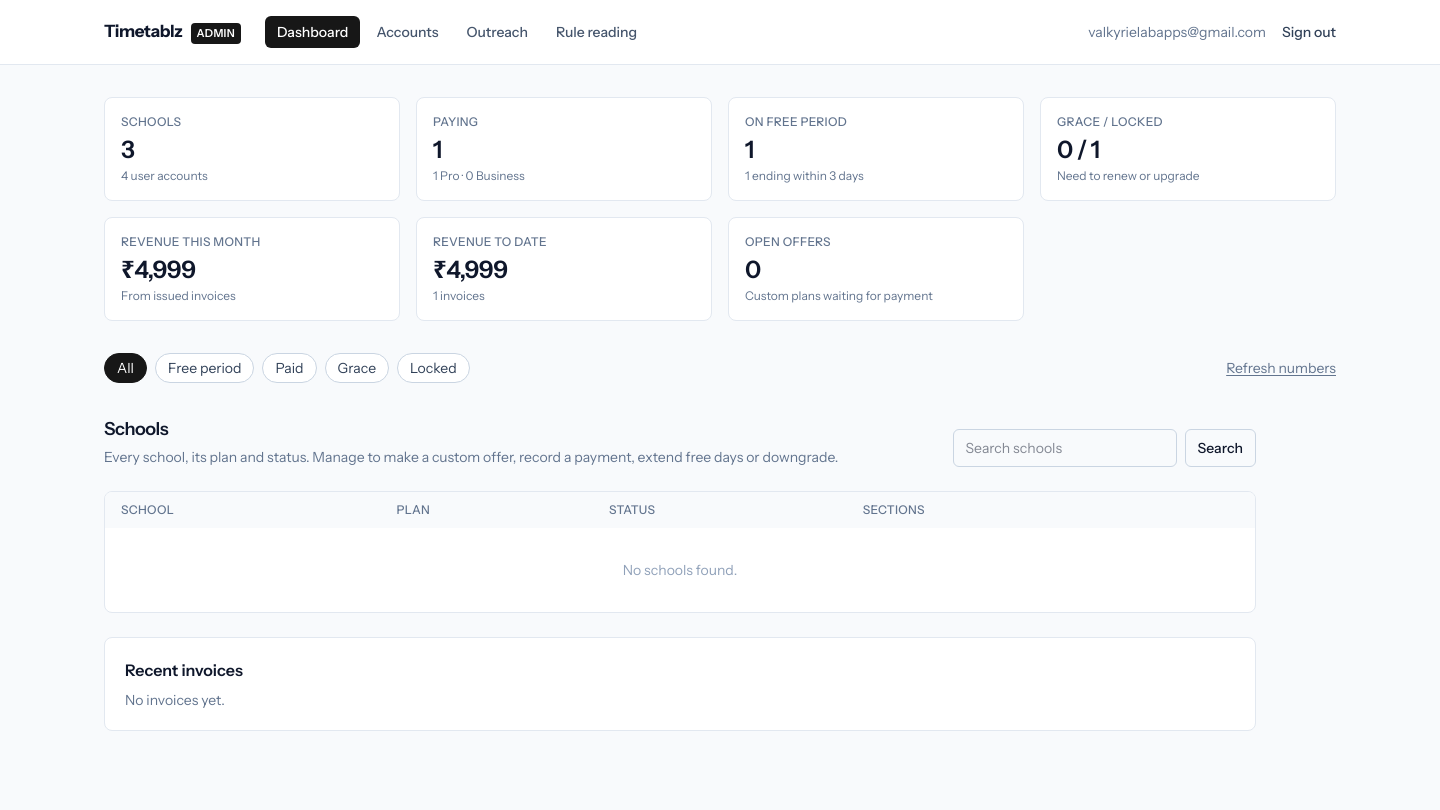
AdminPage › shows the dashboard and accounts to the admin
Check: the text "Revenue to date" is shown, box x1=433 y1=234 x2=547 y2=249
Check: the text "₹4,999" is shown 2 times, box x1=121 y1=255 x2=196 y2=284; x1=433 y1=255 x2=508 y2=284
Click the button "Accounts".
click(407, 32)  # box x1=364 y1=16 x2=450 y2=48
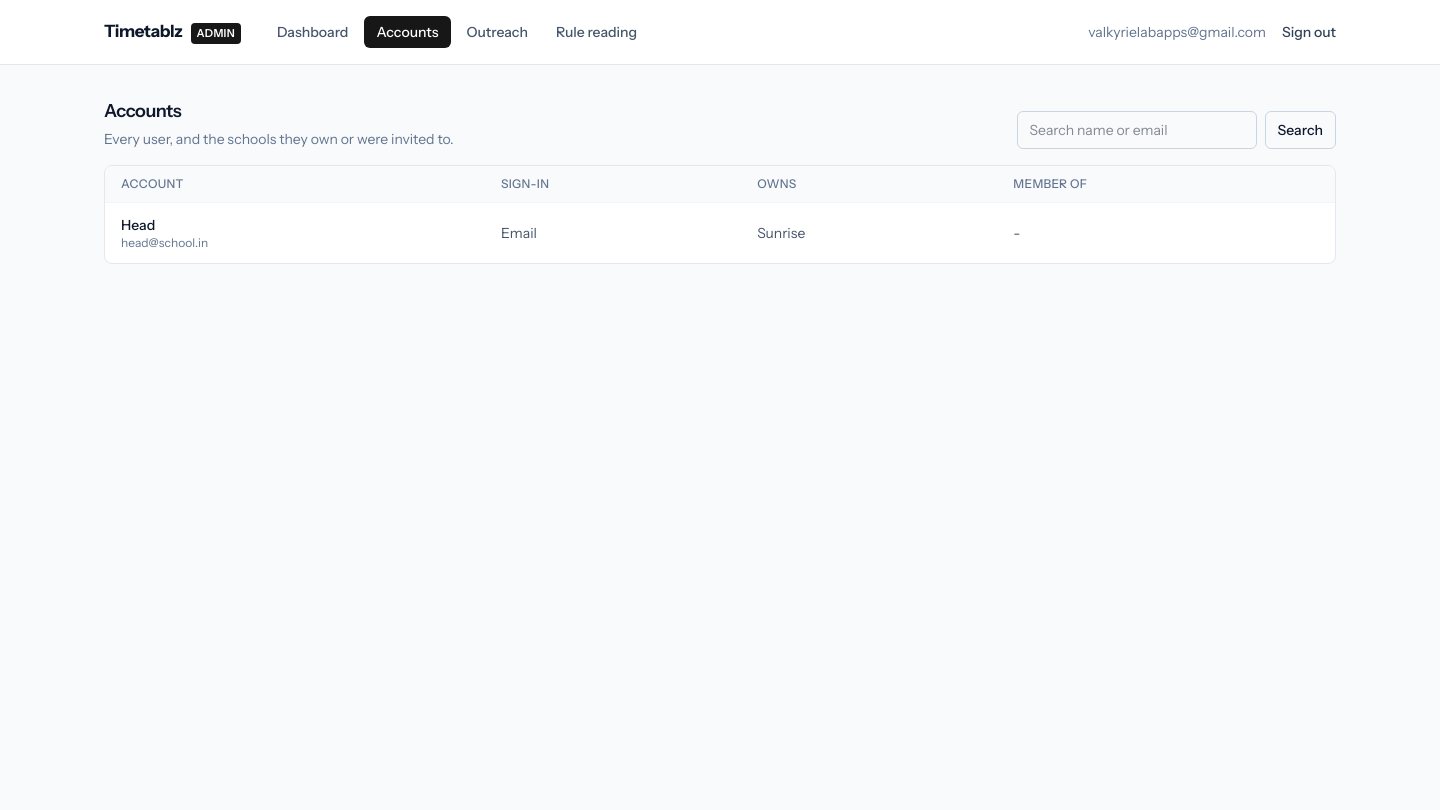
Check: the text "head@school.in" is shown, box x1=121 y1=235 x2=208 y2=250
